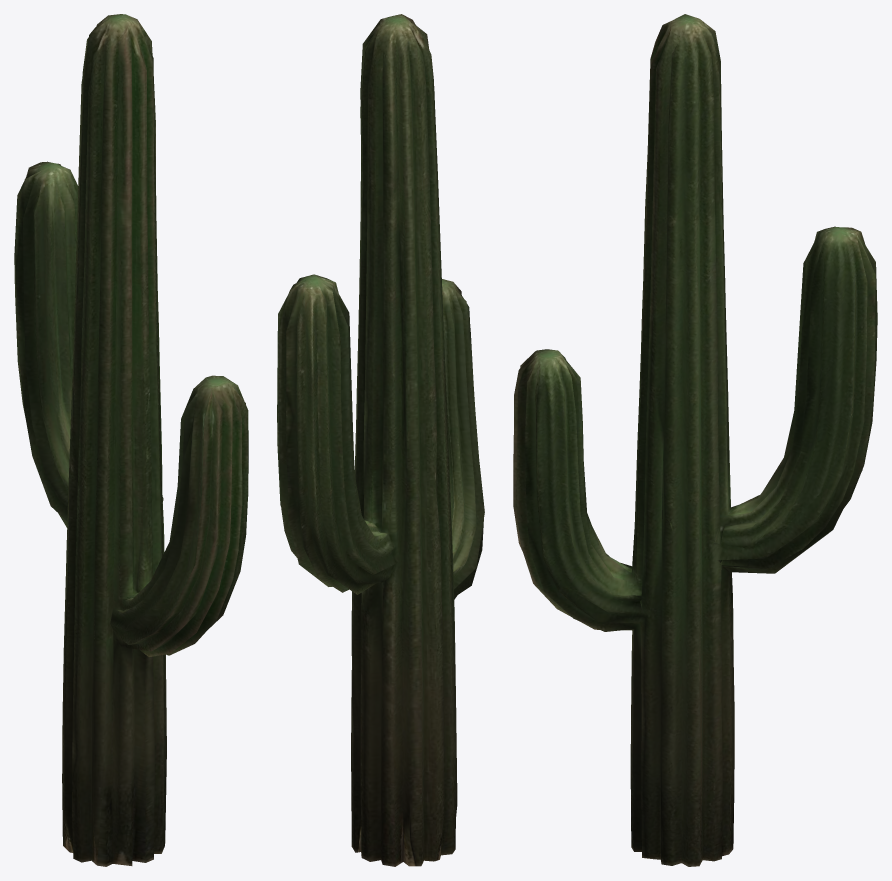
Rendered from cactus.glb.
The picture shows the model from 3 angles, left to right: view 1: azimuth 30°, elevation 25°; view 2: azimuth 150°, elevation 25°; view 3: azimuth 270°, elevation 25°; orthographic projection.
Parts seen in each view (by area): view 1: frame; view 2: frame; view 3: frame.
Boxes of the visible parts, x1,y1,x2,y2 form: frame: (14,14,248,866); frame: (277,14,484,866); frame: (513,14,877,866).
Size of the model in its own units: 0.5688 by 4.16 by 1.66.
Materials: 1 (1 with a texture image).
